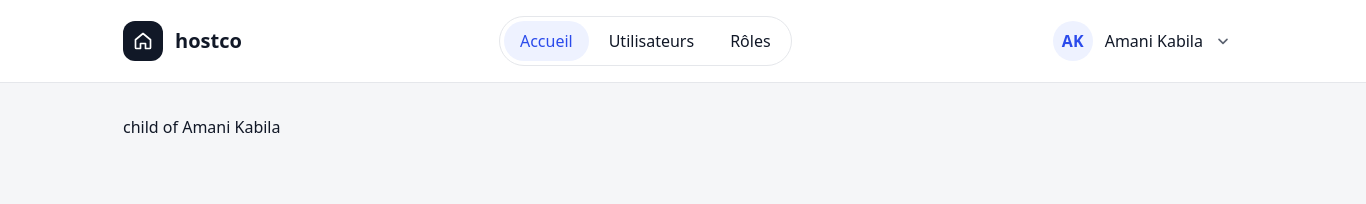
Test: AdminShell (fr) › opens the account menu and closes it with Escape
Click the button "AK Amani Kabila" at point(1146, 41), box x1=1049 y1=17 x2=1243 y2=65
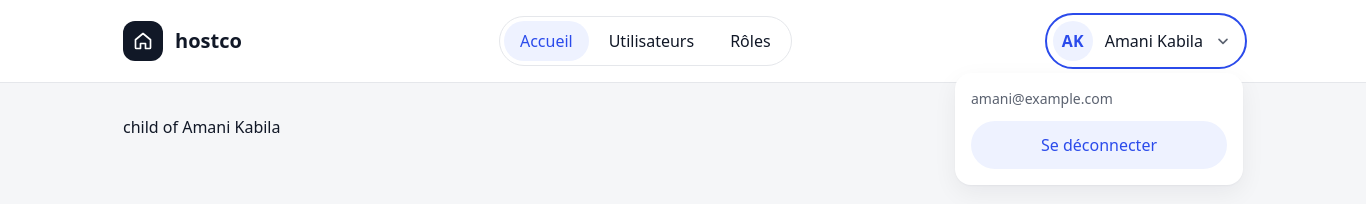
Now the button "AK Amani Kabila" is expanded, box x1=1049 y1=17 x2=1243 y2=65
Now the text "amani@example.com" is shown, box x1=971 y1=89 x2=1113 y2=108
Press Escape
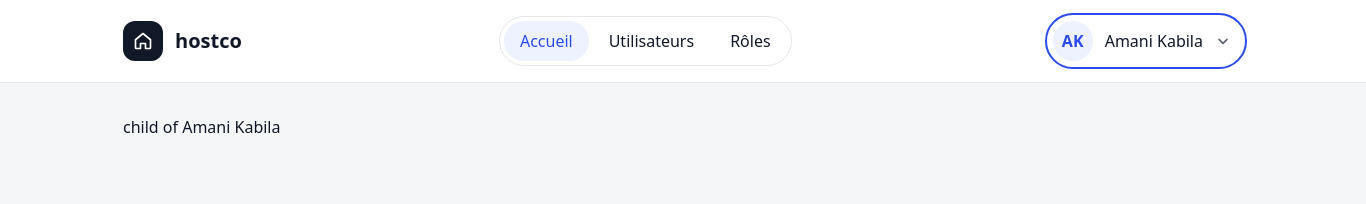
Now the button "Se déconnecter" is gone
